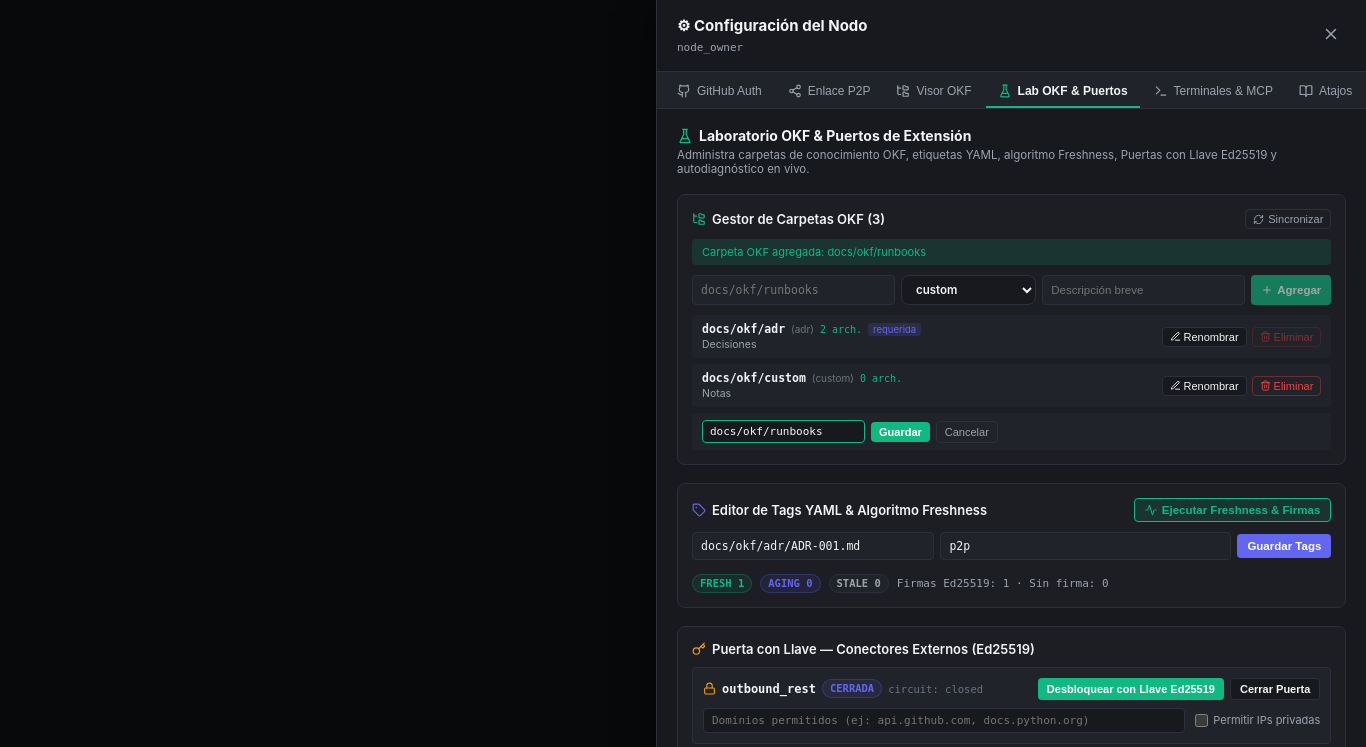
SettingsDrawer - Multi-Seed P2P y Laboratorio OKF & Puertos (Hito 4.4) › en Laboratorio OKF gestiona carpetas, actualiza tags YAML, ejecuta Freshness, controla Puertas con Llave y corre diagnóstico
Earlier steps of the test are not shown.
Later steps or results of the test are not shown.
Replace the text in the field with test id "okf-rename-input-docs/okf/runbooks" with "docs/okf/playbooks" at (783,432), box [702,420,865,443]
Click the button with test id "okf-rename-confirm-docs/okf/runbooks" at (900,432), box [871,422,930,442]
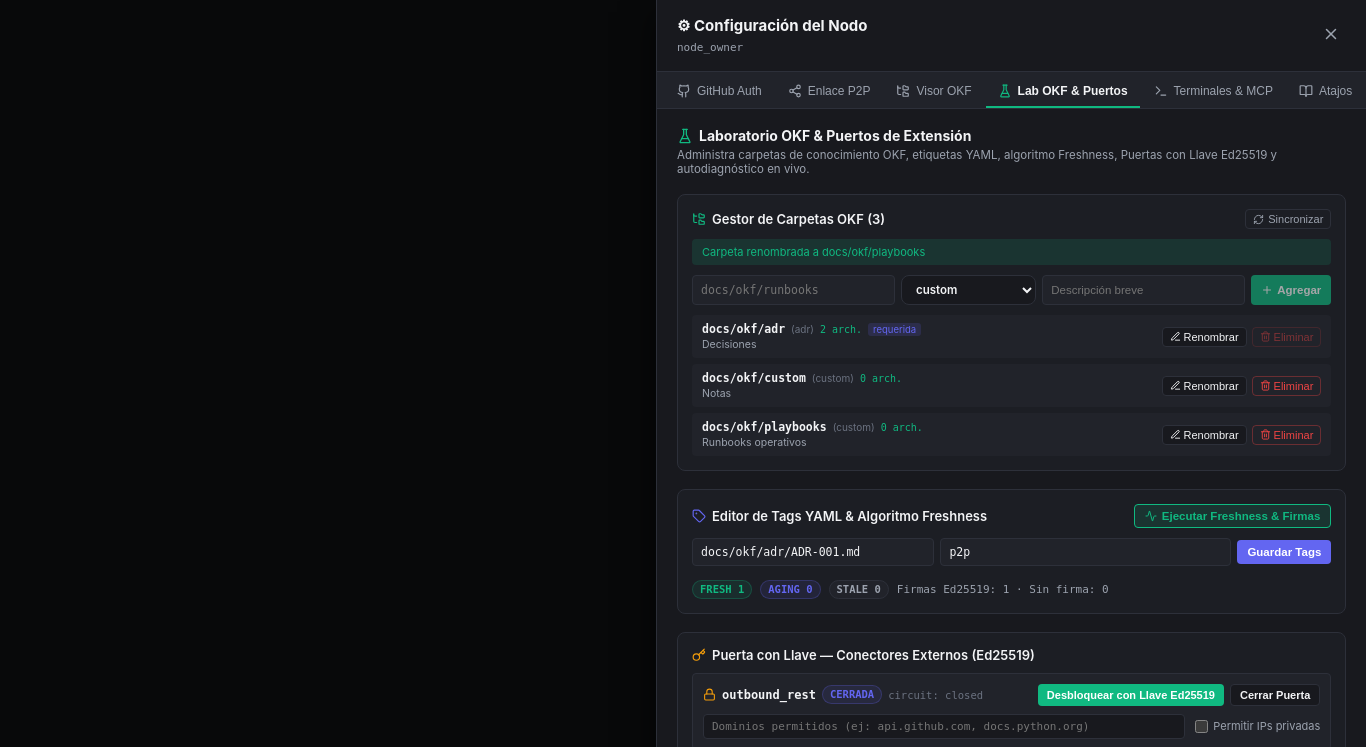
Check: the element with test id "okf-folder-row-docs/okf/playbooks" is shown, box [692,413,1331,456]
Click the button with aria-label "Eliminar docs/okf/playbooks" at (1286,434), box [1251,424,1321,444]
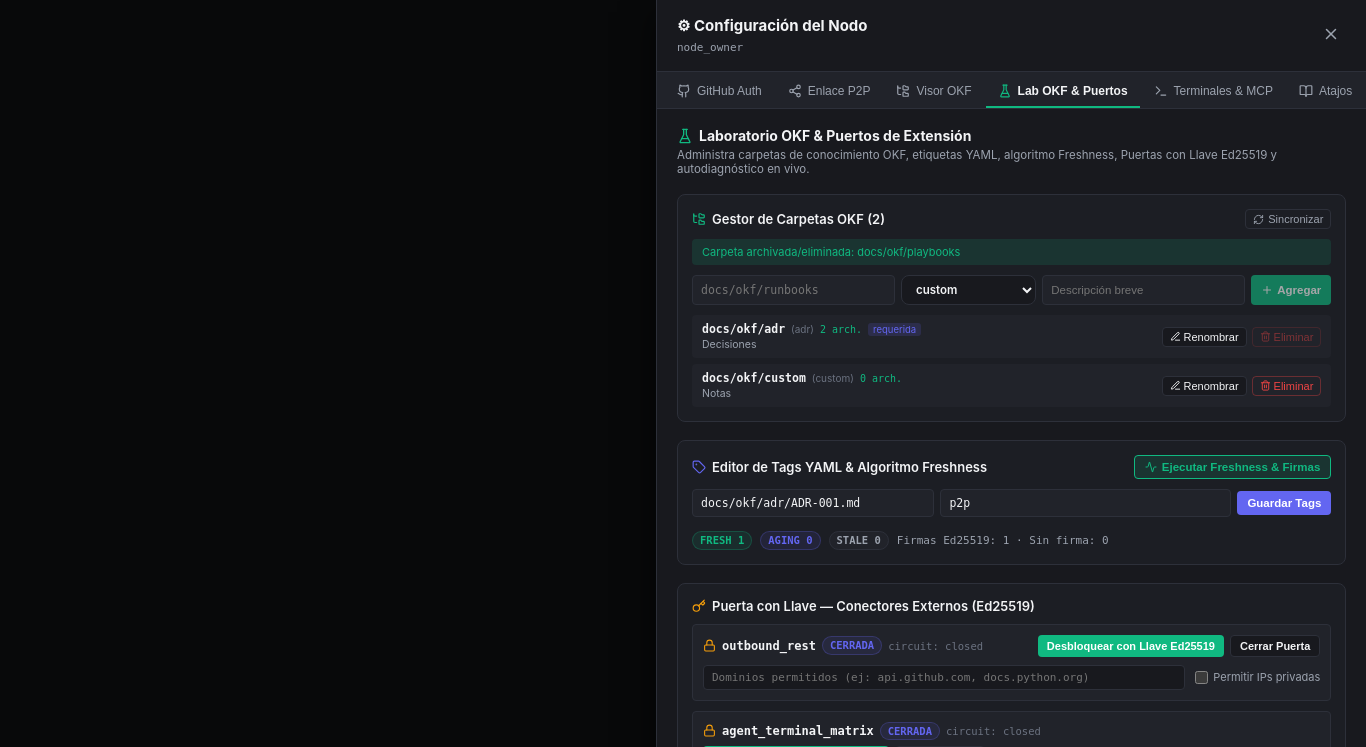
Replace the text in the field with test id "okf-tag-values-input" with "p2p, hexagonal" at (1086,503), box [940,489,1231,517]
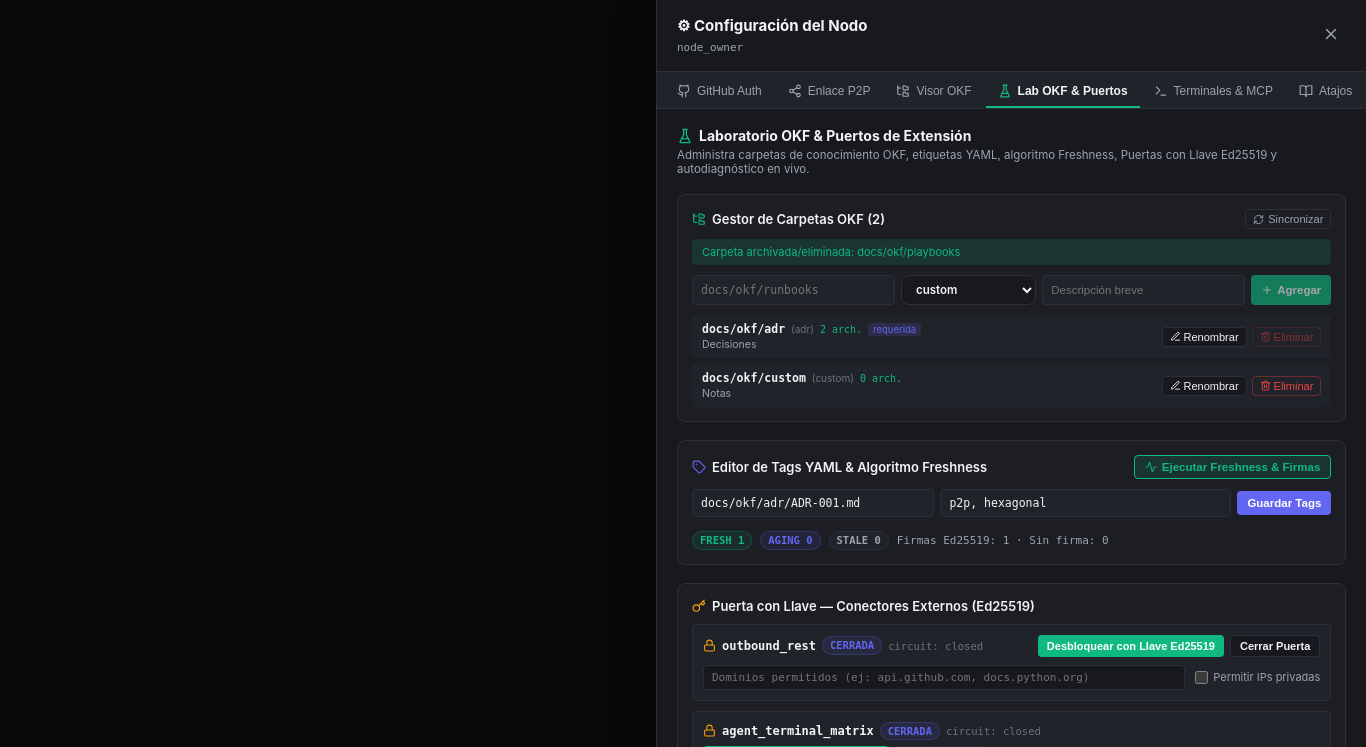
Click the button with test id "okf-save-tags-btn" at (1284,503), box [1237,491,1331,515]
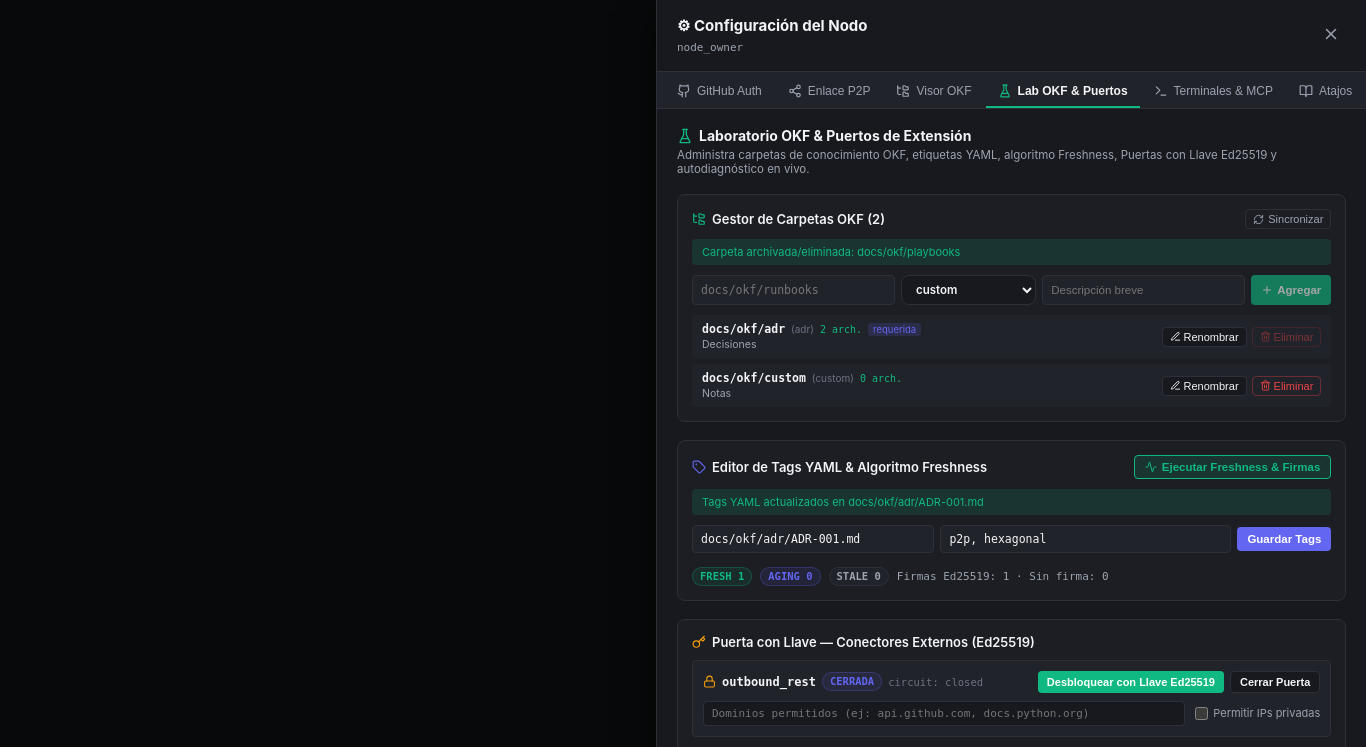
Click the button with test id "run-freshness-btn" at (1232,467), box [1134,455,1331,479]
Type "api.github.com" into the field with test id "gate-domains-outbound_rest" at (944,713), box [703,701,1185,726]
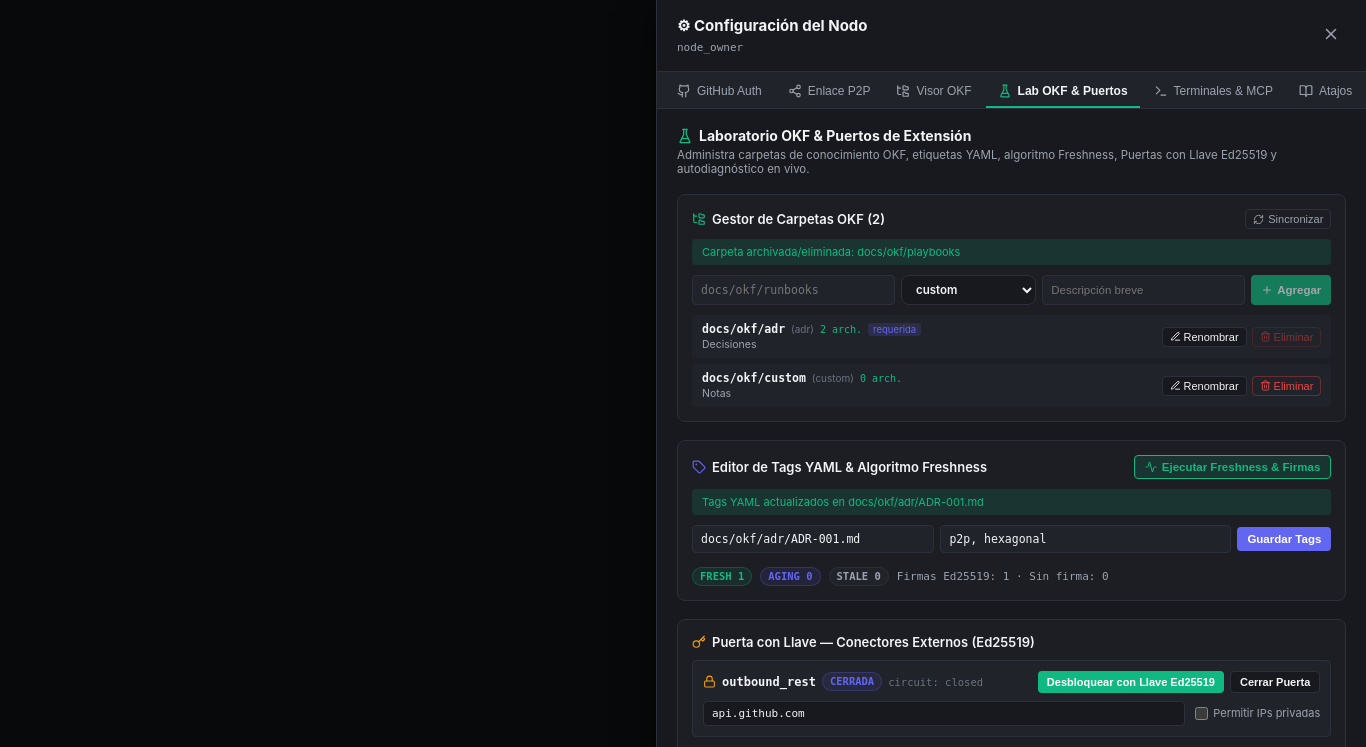
Click the button with test id "unlock-gate-outbound_rest" at (1131,682), box [1038,671,1224,693]
(page scrolled)
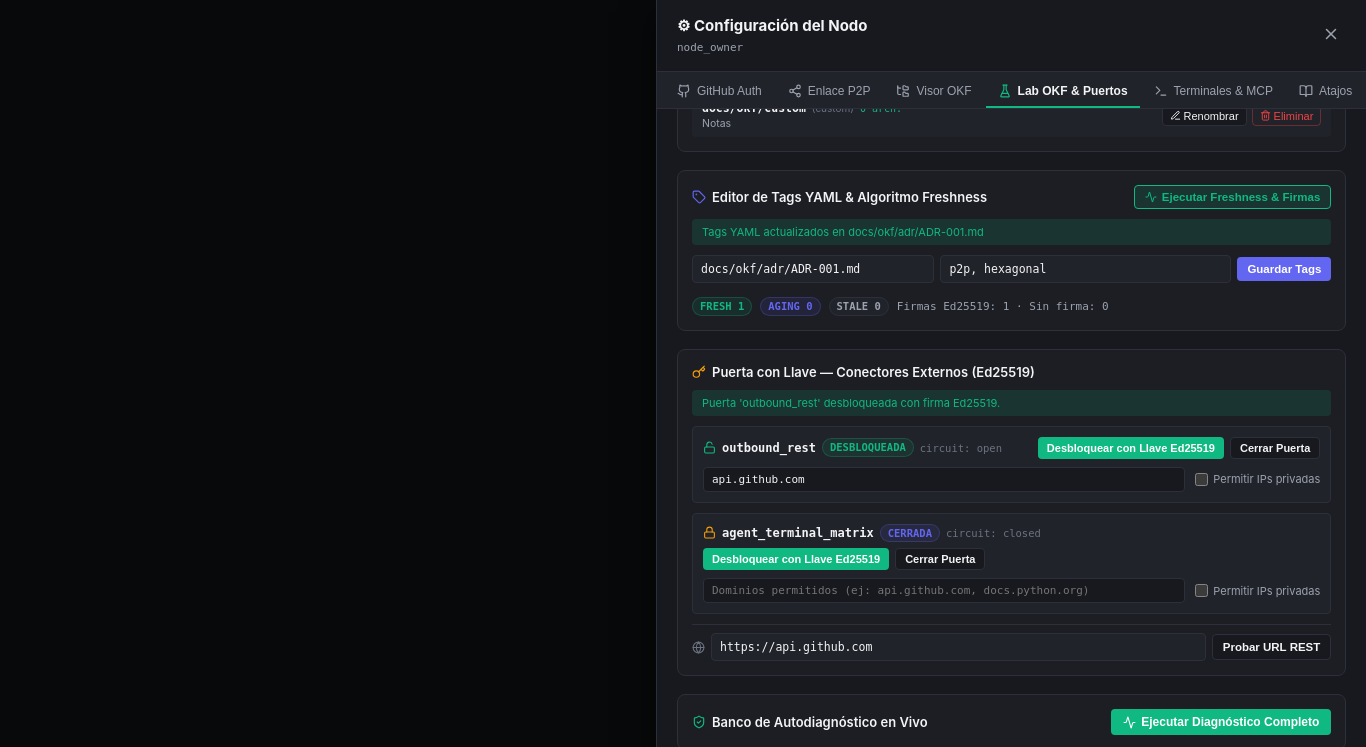
Check: the element with test id "gate-card-outbound_rest" shows "DESBLOQUEADA", box [830,441,906,453]
